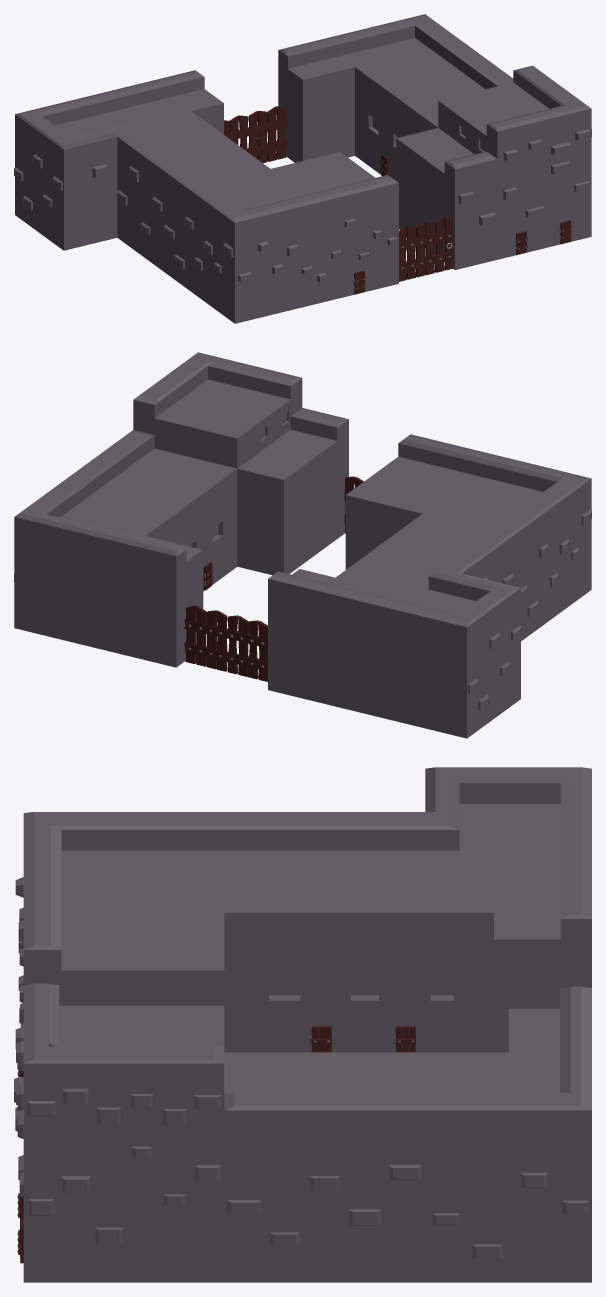
The model's file is Military_Warehouse.fbx.
The picture shows the model from 3 angles, top to bottom: view 1: azimuth 30°, elevation 25°; view 2: azimuth 150°, elevation 25°; view 3: azimuth 270°, elevation 25°; orthographic projection. The views are drawn at different scales.
Visible parts, largest first — view 1: Здание; view 2: Здание; view 3: Здание.
Boxes of the visible parts, x1,y1,x2,y2 form: Здание: [14, 14, 591, 323]; Здание: [14, 352, 591, 738]; Здание: [14, 767, 591, 1282].
Size of the model in its own units: 1660 by 495 by 1169.
